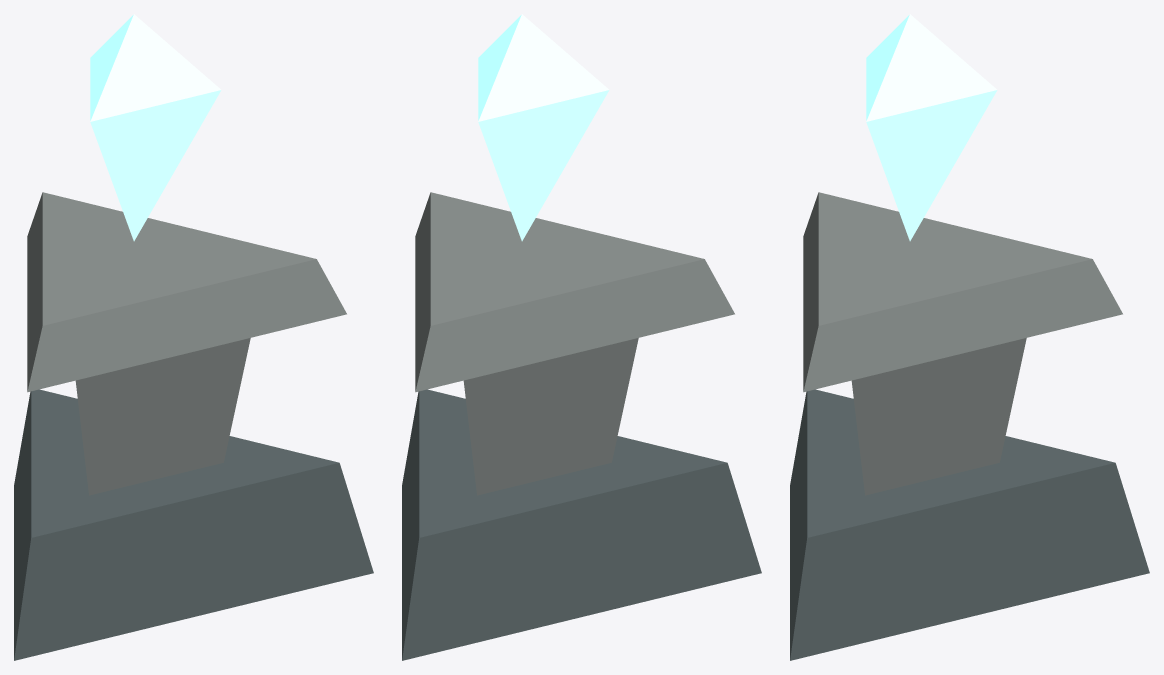
The model's file is PROP_Maze_EventAltar.fbx.
The picture shows the model from 3 angles, left to right: view 1: azimuth 30°, elevation 25°; view 2: azimuth 150°, elevation 25°; view 3: azimuth 270°, elevation 25°; orthographic projection.
Parts seen in each view (by area): view 1: PROP_Maze_EventAltar; view 2: PROP_Maze_EventAltar; view 3: PROP_Maze_EventAltar.
Part boxes in pixels (x1,y1,x2,y2): PROP_Maze_EventAltar: (14,14,373,660); PROP_Maze_EventAltar: (402,14,761,660); PROP_Maze_EventAltar: (790,14,1149,660).
Bounding box in the file's own units: 109 × 162 × 94.5.
